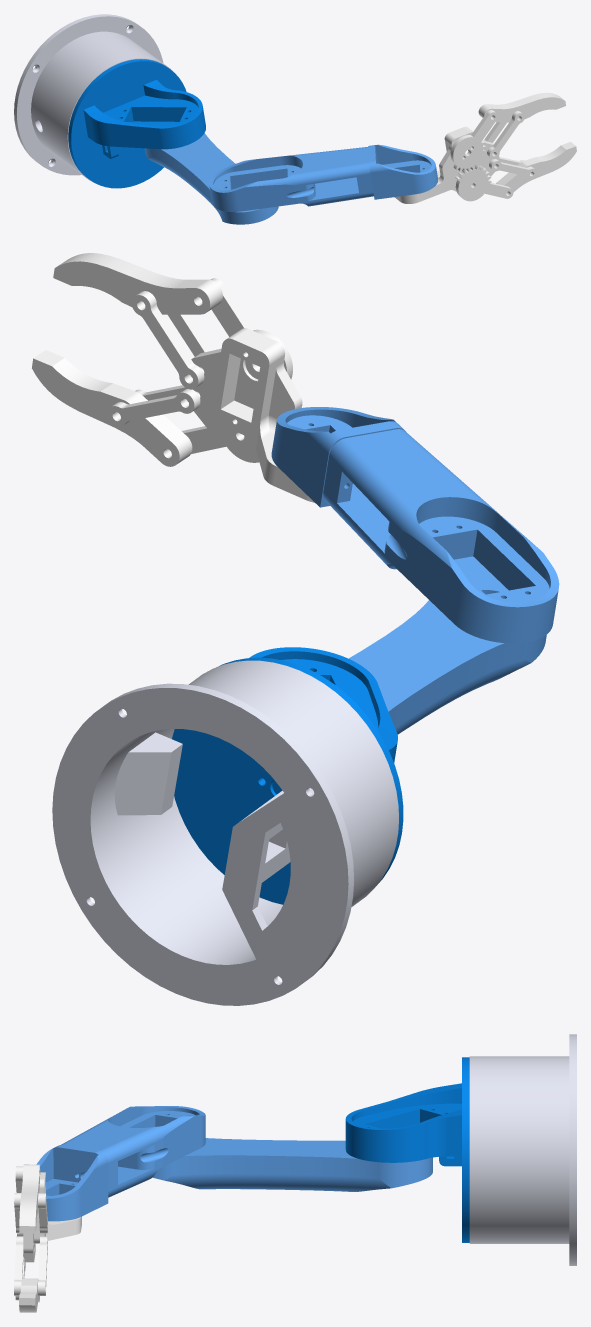
The model's file is AURA.gltf.
The picture shows the model from 3 angles, top to bottom: view 1: azimuth 30°, elevation 25°; view 2: azimuth 150°, elevation 25°; view 3: azimuth 270°, elevation 25°; orthographic projection. The views are drawn at different scales.
Parts seen in each view (by area): view 1: Waist, Base, Arm 02 v3, Arm 01, Arm 03, Gripper 1 (×2), Gripper base, gear2, gear1, grip link 1 (×2); view 2: Base, Arm 02 v3, Waist, Arm 01, Gripper 1 (×2), Gripper base, Arm 03, grip link 1 (×2), gear2, gear1; view 3: Base, Arm 01, Waist, Arm 02 v3, Arm 03, Gripper 1 (×2), grip link 1 (×3), Gripper base.
Part boxes in pixels (left/top/right/bottom): Waist: left=68, top=59, right=205, bottom=188; Base: left=14, top=14, right=173, bottom=182; Arm 02 v3: left=209, top=147, right=373, bottom=211; Arm 01: left=144, top=133, right=278, bottom=224; Arm 03: left=368, top=144, right=437, bottom=199; Gripper 1 (×2): left=478, top=92, right=576, bottom=193; Gripper base: left=394, top=126, right=499, bottom=203; gear2: left=450, top=110, right=497, bottom=171; gear1: left=455, top=164, right=513, bottom=201; grip link 1 (×2): left=487, top=111, right=536, bottom=179; Base: left=52, top=660, right=398, bottom=1005; Arm 02 v3: left=323, top=429, right=559, bottom=643; Waist: left=172, top=647, right=403, bottom=904; Arm 01: left=348, top=600, right=546, bottom=734; Gripper 1 (×2): left=32, top=253, right=222, bottom=466; Gripper base: left=184, top=328, right=314, bottom=502; Arm 03: left=271, top=407, right=405, bottom=507; grip link 1 (×2): left=107, top=291, right=204, bottom=426; gear2: left=210, top=278, right=292, bottom=379; gear1: left=182, top=426, right=259, bottom=462; Base: left=469, top=1034, right=576, bottom=1265; Arm 01: left=153, top=1138, right=432, bottom=1191; Waist: left=345, top=1057, right=469, bottom=1242; Arm 02 v3: left=61, top=1106, right=205, bottom=1197; Arm 03: left=36, top=1145, right=108, bottom=1221; Gripper 1 (×2): left=19, top=1164, right=40, bottom=1312; grip link 1 (×3): left=14, top=1193, right=47, bottom=1295; Gripper base: left=23, top=1172, right=81, bottom=1262.
Size of the model in its own units: 0.293 by 0.1277 by 0.2941.
